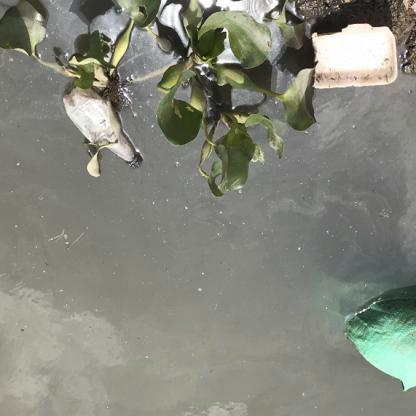Plastic: (60, 84, 145, 171)
Trash: (334, 297, 416, 395)
